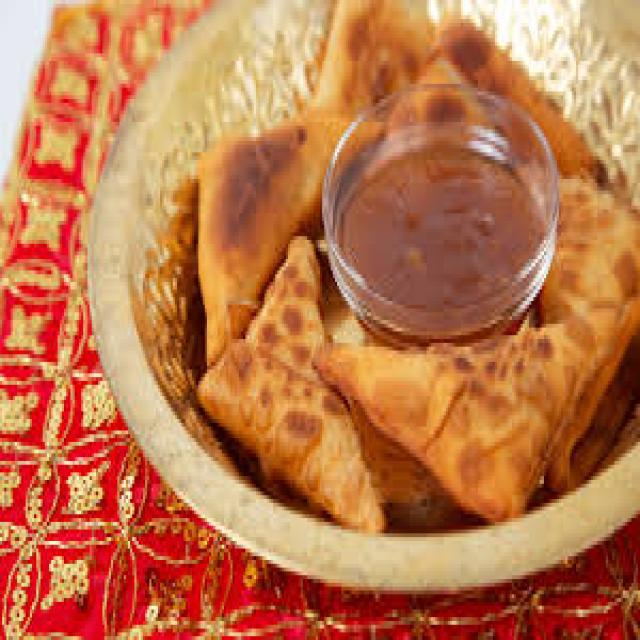SAMOSA: (312, 311, 621, 522), (199, 234, 385, 523), (198, 125, 373, 366), (542, 179, 638, 320)
